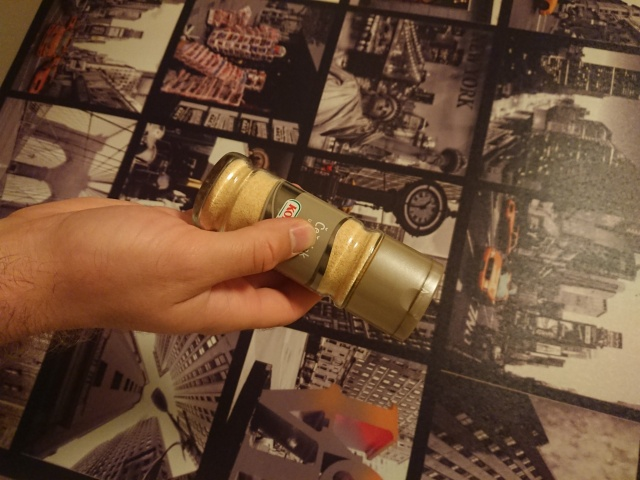Kotanyi Garlic Granules 70g: (189, 150, 447, 342)
